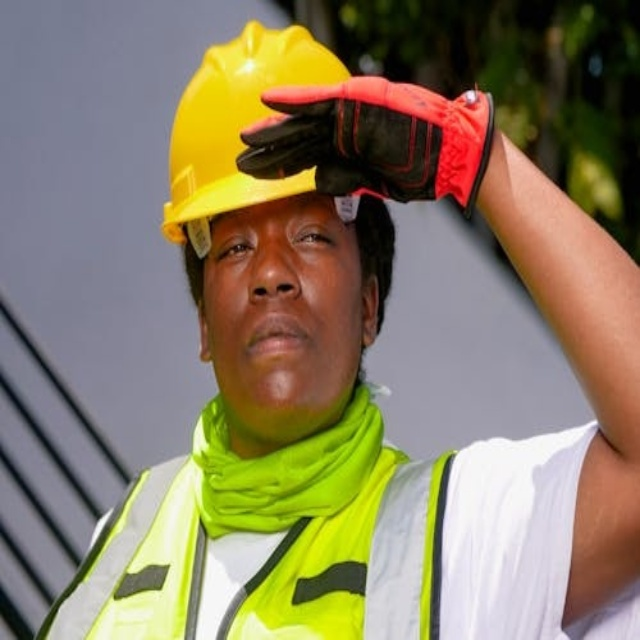Guantes: (238, 76, 494, 222)
Sin_gafas: (205, 215, 340, 270)
Sin_mascara: (228, 305, 319, 382)
